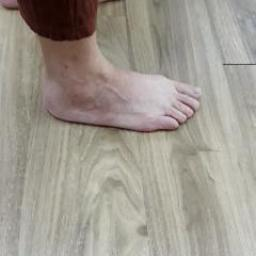Lateral View -Right Foot-: (24, 43, 222, 148)
